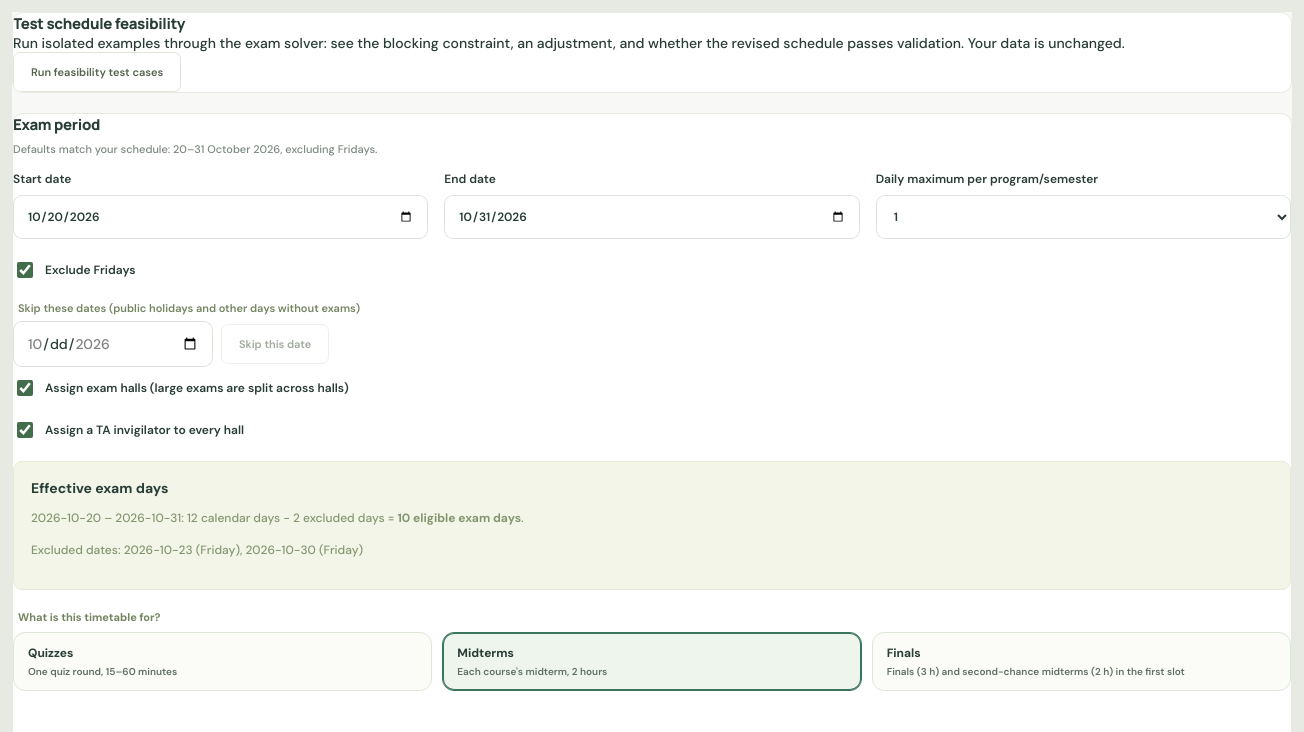
Test case: isolated feasibility cases show failure and verified adjustment
The width and height of the screenshot is (1304, 732).
Click the button "Run feasibility test cases".
click(97, 72)  # box [13,52,181,92]
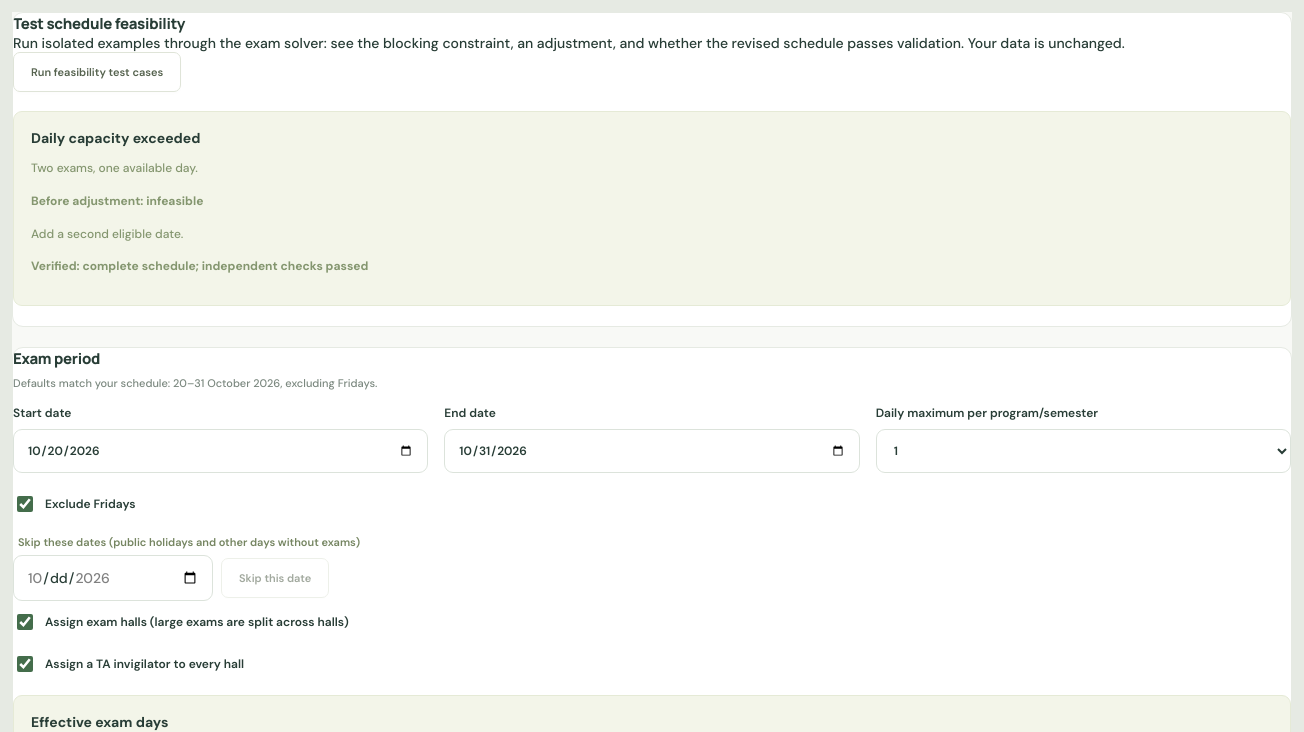
Now the heading "Daily capacity exceeded" is shown, box [31,129,200,147]
Now the text "Before adjustment: infeasible" is shown, box [31,193,203,209]
Now the text "Add a second eligible date." is shown, box [31,226,184,242]
